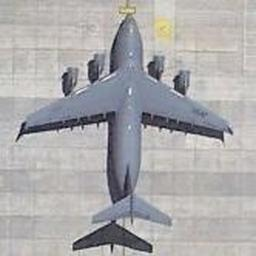Airplane: (14, 0, 234, 253)
